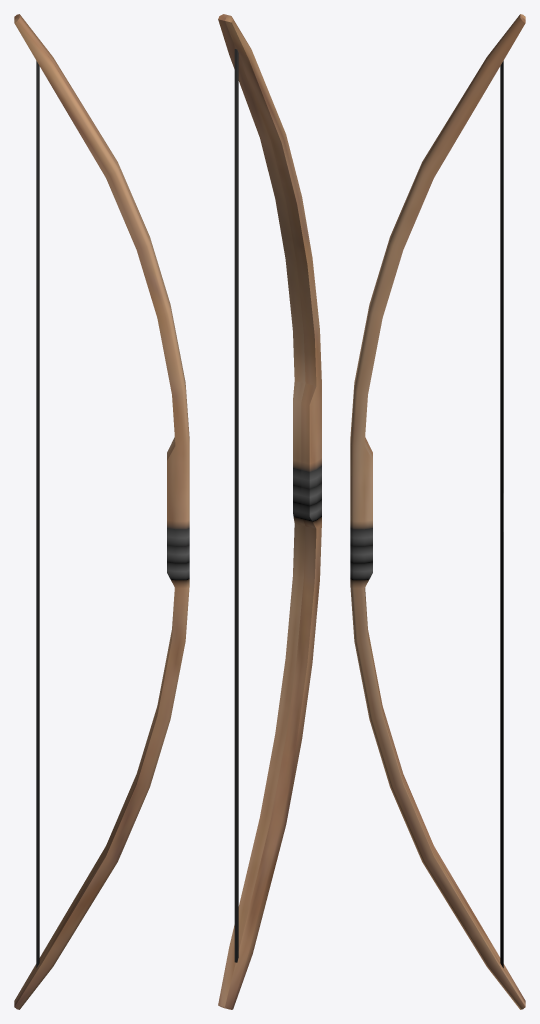
Rendered from HCLongbow.fbx.
The picture shows the model from 3 angles, left to right: view 1: azimuth 90°, elevation 25°; view 2: azimuth 150°, elevation 25°; view 3: azimuth 270°, elevation 25°; orthographic projection.
Parts seen in each view (by area): view 1: Bow; view 2: Bow; view 3: Bow.
Boxes of the visible parts, x1,y1,x2,y2 form: Bow: (14,14,189,1009); Bow: (218,14,321,1009); Bow: (350,14,525,1009).
Size of the model in its own units: 0.0183 by 0.1269 by 0.7932.
